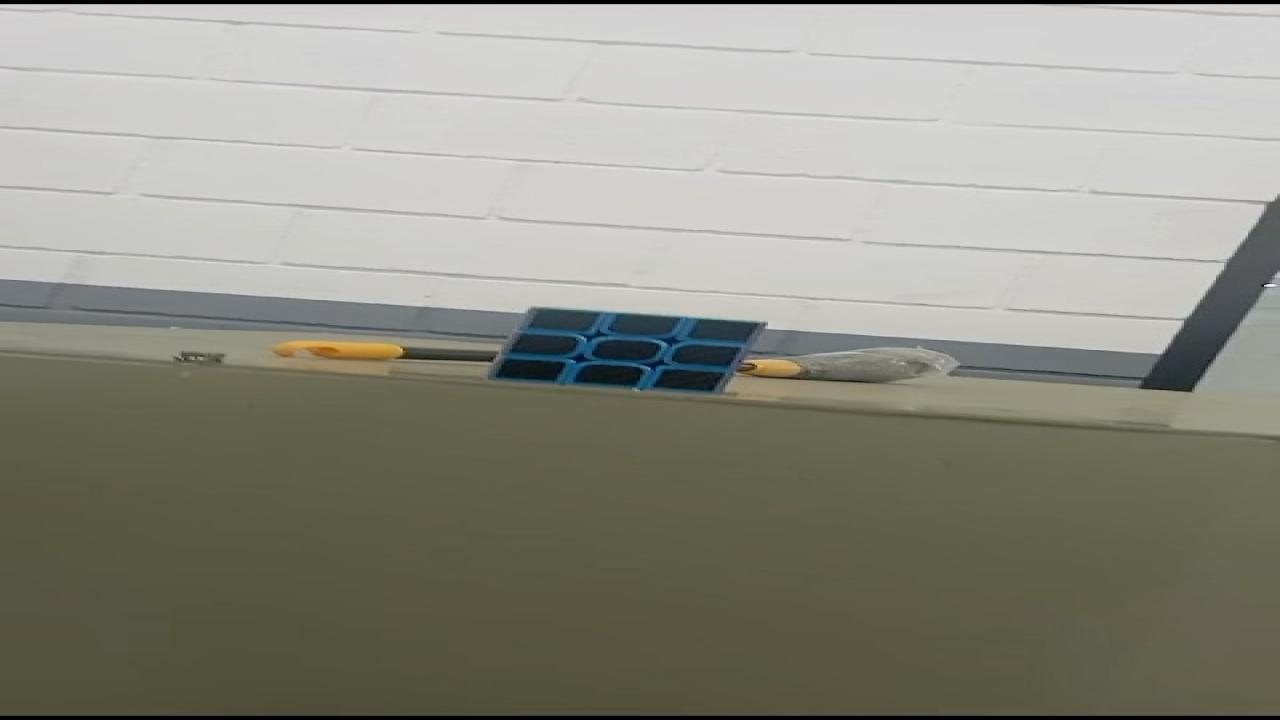Cube: (480, 305, 768, 394)
